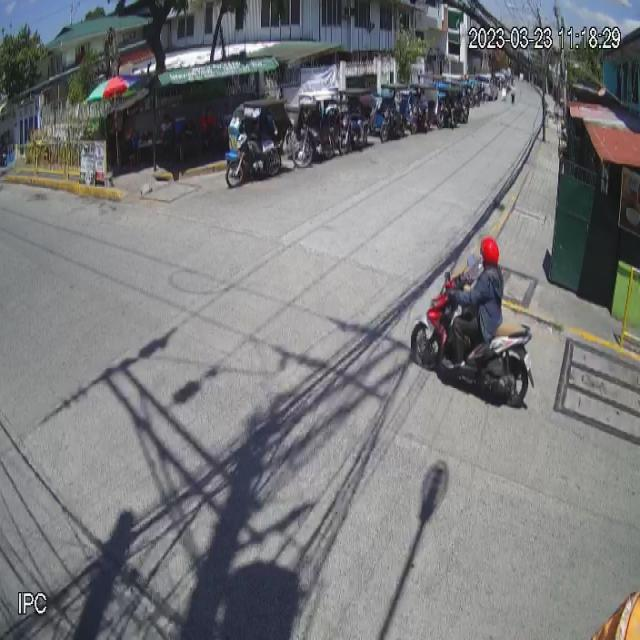Tricycle: (410, 263, 534, 408)
